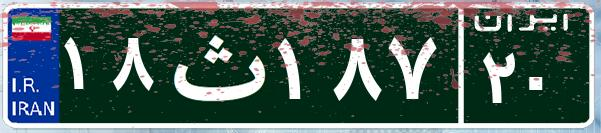0: (525, 38, 570, 115)
1: (273, 28, 330, 110), (57, 26, 110, 107)
2: (475, 38, 525, 113)
7: (385, 28, 445, 110)
8: (330, 28, 385, 110), (110, 28, 158, 105)
ث: (158, 15, 273, 115)
